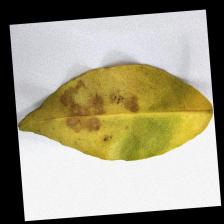black spot: (40, 76, 146, 132)
